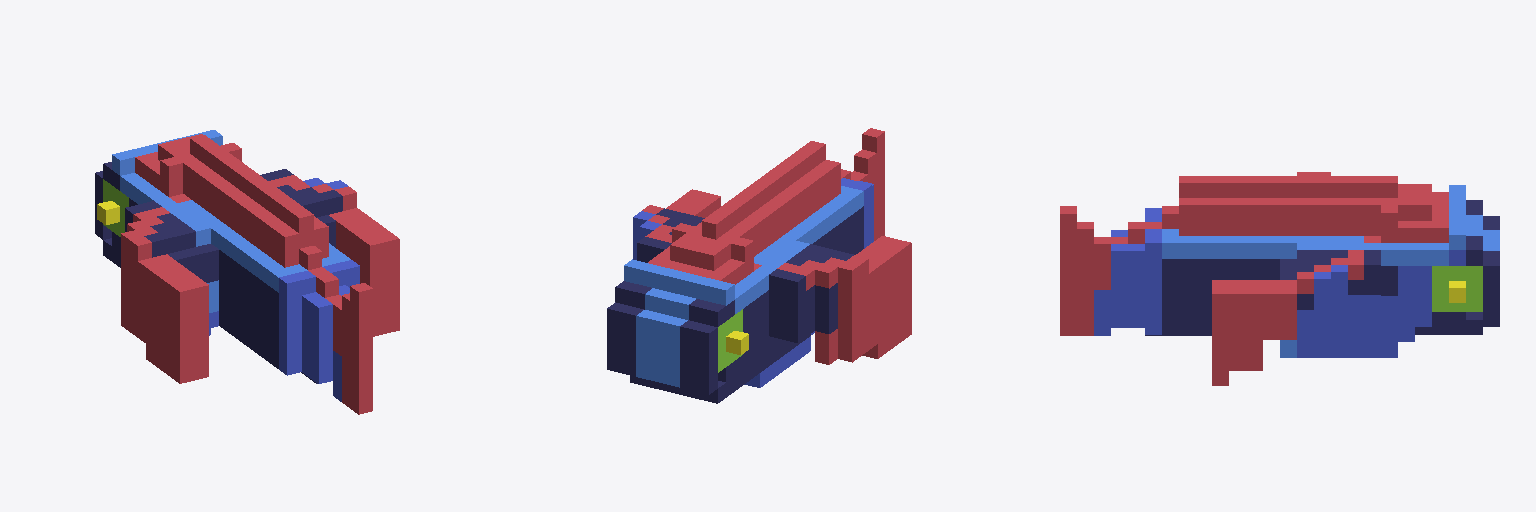
The picture shows the model from 3 angles: view 1: azimuth 30°, elevation 25°; view 2: azimuth 150°, elevation 25°; view 3: azimuth 270°, elevation 25°; orthographic projection.
Parts seen in each view (by area): view 1: object 1; view 2: object 1; view 3: object 1.
Boxes of the visible parts, box(x1,y1,x2,y2) form: object 1: box(95, 130, 399, 414); object 1: box(607, 128, 911, 403); object 1: box(1060, 172, 1499, 385).
Size of the model in its own units: 1.5 by 1 by 2.6.
1 materials, 1 textured.